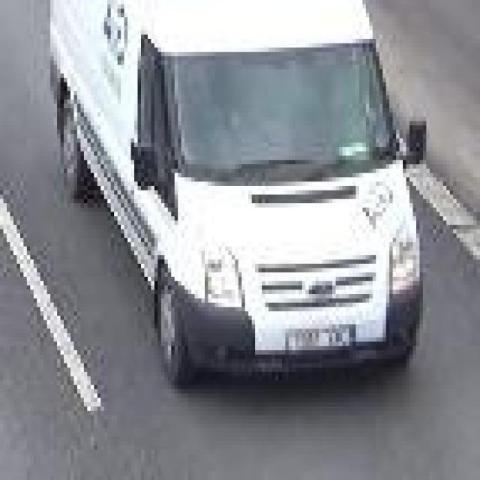van: (50, 0, 423, 385)
